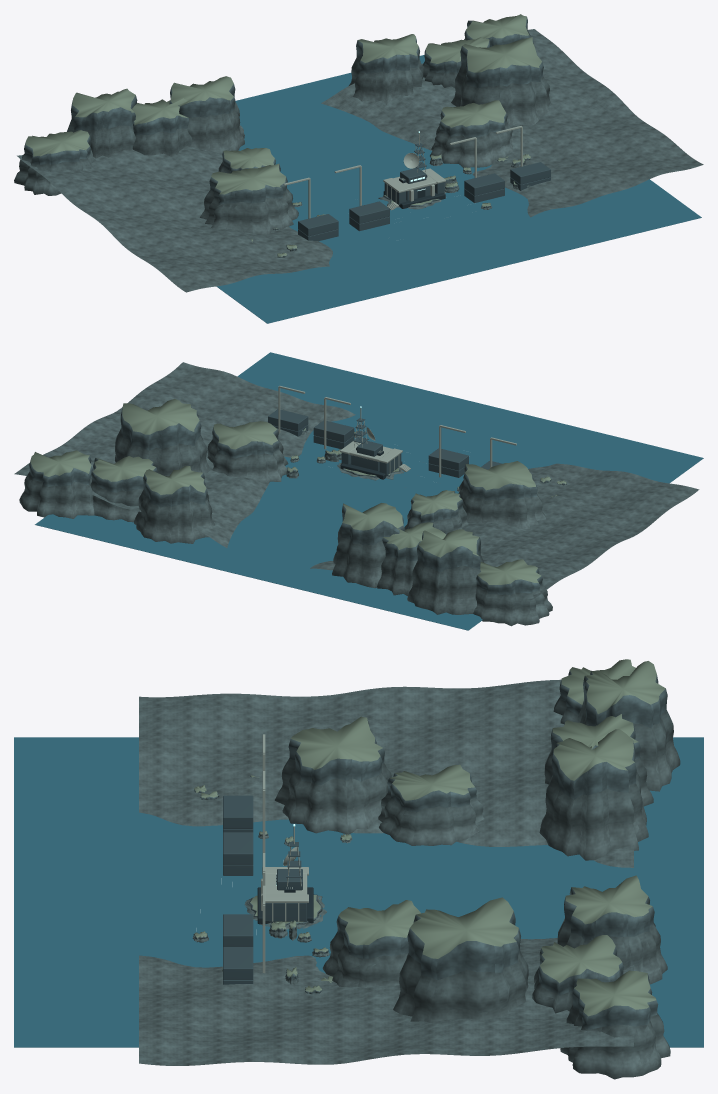
File: shore-03-v1.glb
3 renders of one model, top to bottom at view 1: azimuth 30°, elevation 25°; view 2: azimuth 150°, elevation 25°; view 3: azimuth 270°, elevation 25°, orthographic. The views are drawn at different scales.
Parts seen in each view (by area): view 1: coast strata 1.001, Tidal water.001, Surface mantle.001, coast strata 2.001, coast strata 0.001, Oxidised armour.001, Concrete and brushed alloy.001; view 2: Tidal water.001, coast strata 1.001, Surface mantle.001, coast strata 2.001, coast strata 0.001, Oxidised armour.001, Concrete and brushed alloy.001; view 3: coast strata 1.001, Tidal water.001, Surface mantle.001, coast strata 2.001, coast strata 0.001, Oxidised armour.001, Concrete and brushed alloy.001.
Boxes of the visible parts, left/top/right/bottom form: coast strata 1.001: left=17, top=29, right=703, bottom=292; Tidal water.001: left=216, top=55, right=701, bottom=323; Surface mantle.001: left=25, top=14, right=541, bottom=256; coast strata 2.001: left=24, top=17, right=543, bottom=257; coast strata 0.001: left=14, top=77, right=550, bottom=234; Oxidised armour.001: left=298, top=143, right=550, bottom=241; Concrete and brushed alloy.001: left=283, top=126, right=522, bottom=218; Tidal water.001: left=35, top=352, right=703, bottom=630; coast strata 1.001: left=14, top=362, right=699, bottom=609; Surface mantle.001: left=30, top=399, right=566, bottom=584; coast strata 2.001: left=29, top=406, right=566, bottom=595; coast strata 0.001: left=19, top=453, right=552, bottom=626; Oxidised armour.001: left=268, top=409, right=501, bottom=477; Concrete and brushed alloy.001: left=278, top=386, right=516, bottom=477; coast strata 1.001: left=139, top=679, right=673, bottom=1065; Tidal water.001: left=14, top=737, right=703, bottom=1047; Surface mantle.001: left=194, top=659, right=665, bottom=1016; coast strata 2.001: left=193, top=670, right=667, bottom=1029; coast strata 0.001: left=269, top=738, right=680, bottom=1079; Oxidised armour.001: left=223, top=795, right=307, bottom=984; Concrete and brushed alloy.001: left=261, top=734, right=308, bottom=973.
Size of the model in its own units: 205 by 31.65 by 160.
10 materials, 3 textured.
